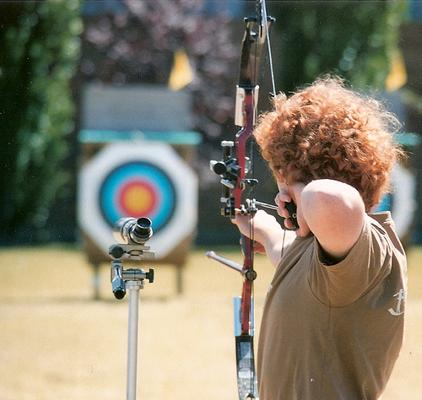person: (230, 76, 410, 400)
